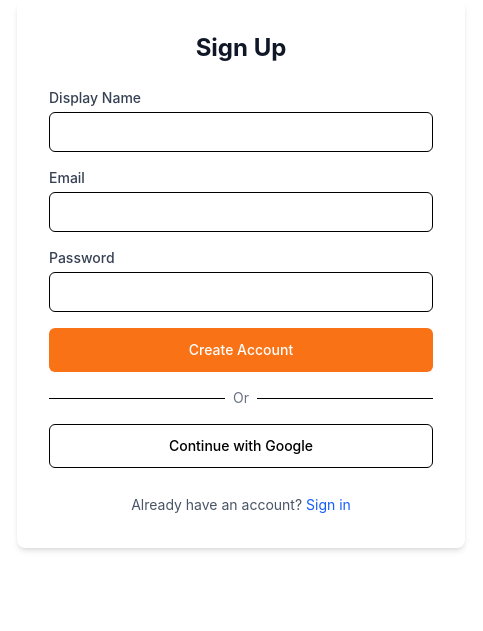
Test: AuthForm › Error Handling Tests › should display error message on signup failure
Type "Test User" into the field labelled "Display Name". click: (241, 132)
box: [49, 112, 433, 152]
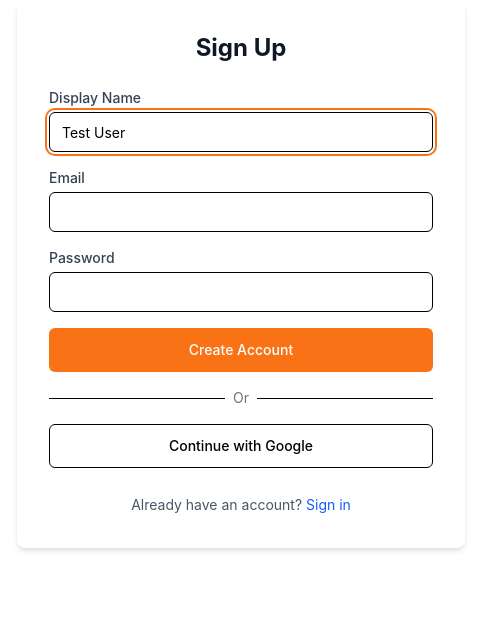
Type "existing@example.com" into the field labelled "Email". click: (241, 212)
box: [49, 192, 433, 232]
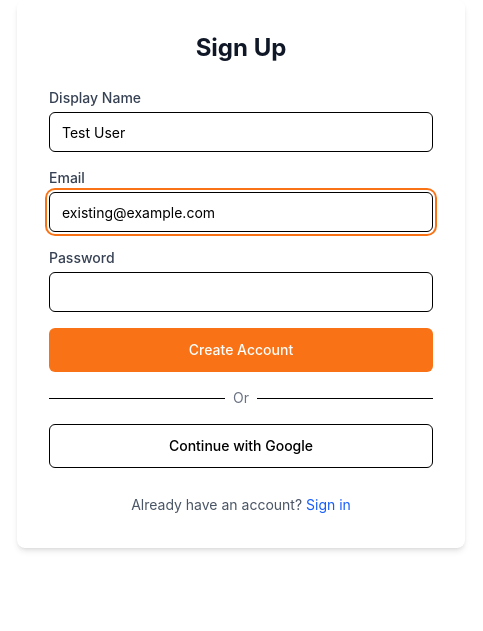
Type "password123" into the password field labelled "Password". click: (241, 292)
box: [49, 272, 433, 312]
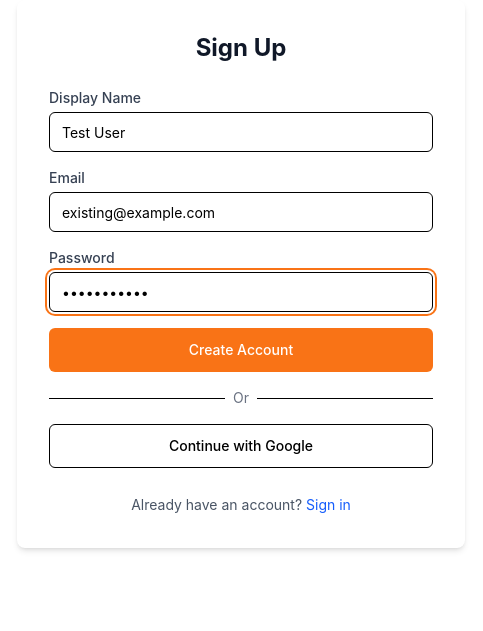
Click the button "Create Account". click: (241, 350)
box: [49, 328, 433, 372]
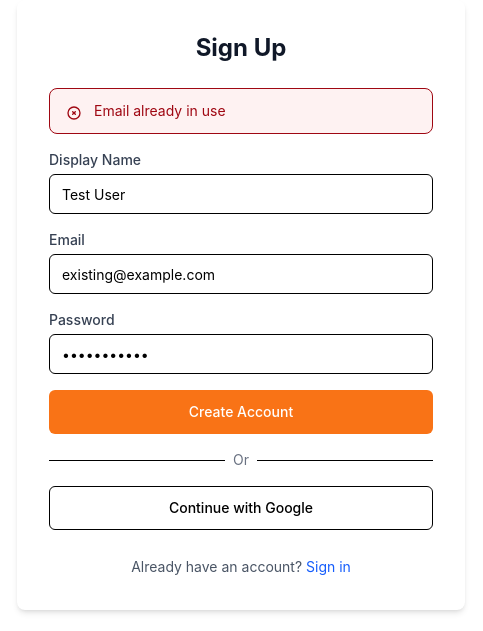
Result: the text "Email already in use" is shown at [94, 102, 226, 119]
